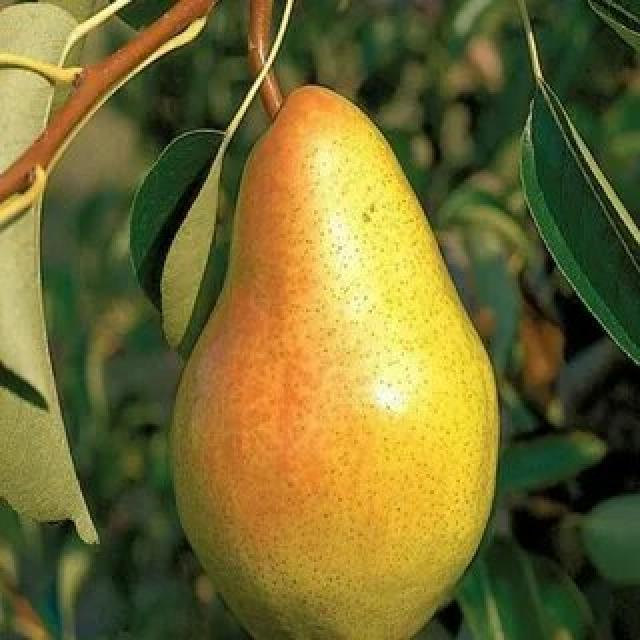pear: (162, 80, 506, 638)
